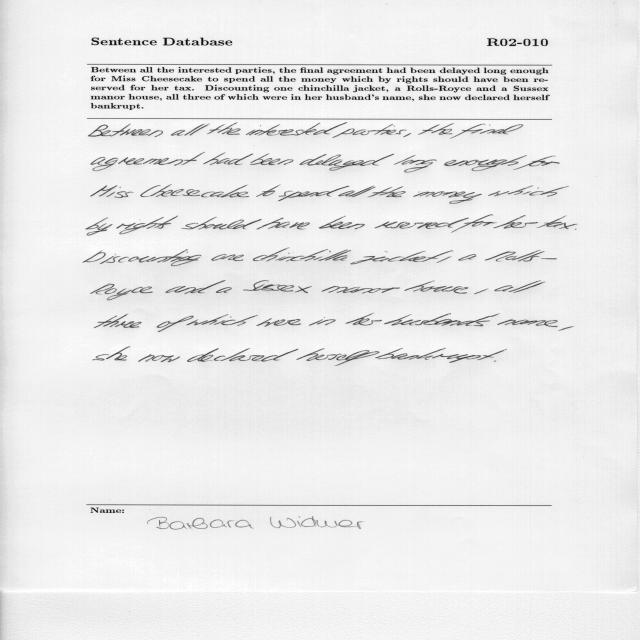word: (91, 152, 205, 171), (84, 249, 202, 266), (375, 348, 507, 363), (299, 154, 394, 171), (187, 348, 298, 362), (384, 313, 500, 326), (297, 348, 380, 366), (350, 251, 453, 265), (140, 185, 249, 198), (253, 248, 351, 262), (444, 155, 527, 171), (246, 123, 347, 136), (375, 217, 469, 229), (119, 216, 178, 235), (450, 124, 523, 139), (278, 186, 349, 201), (91, 283, 153, 300), (332, 124, 407, 138), (88, 124, 163, 137), (488, 185, 569, 197), (181, 217, 262, 229), (86, 218, 136, 236), (413, 191, 482, 204), (243, 280, 312, 293), (485, 250, 557, 262), (186, 314, 258, 326), (217, 154, 294, 165), (166, 280, 226, 294), (405, 281, 469, 294), (451, 215, 497, 233), (394, 155, 437, 172), (513, 155, 560, 170), (94, 314, 142, 328), (495, 280, 546, 293), (493, 215, 538, 229), (322, 286, 400, 294), (319, 216, 365, 229), (157, 316, 194, 332), (257, 218, 310, 229), (91, 185, 133, 198), (536, 216, 578, 229), (497, 319, 558, 327), (345, 313, 382, 326), (93, 347, 130, 360), (171, 124, 209, 136), (207, 122, 241, 135), (368, 186, 406, 197), (339, 186, 376, 197), (256, 318, 301, 327), (418, 123, 454, 134), (138, 355, 180, 363), (256, 184, 281, 197), (204, 153, 226, 165), (309, 317, 336, 326), (211, 254, 244, 261), (459, 254, 477, 260), (437, 256, 452, 263), (216, 287, 232, 293), (559, 326, 574, 331), (474, 289, 488, 294), (404, 133, 412, 137), (494, 360, 496, 362), (575, 229, 576, 230)
